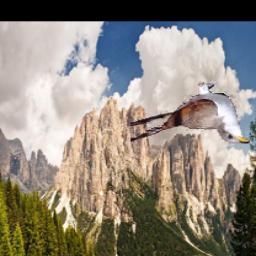Cuckoo: (132, 81, 251, 144)
